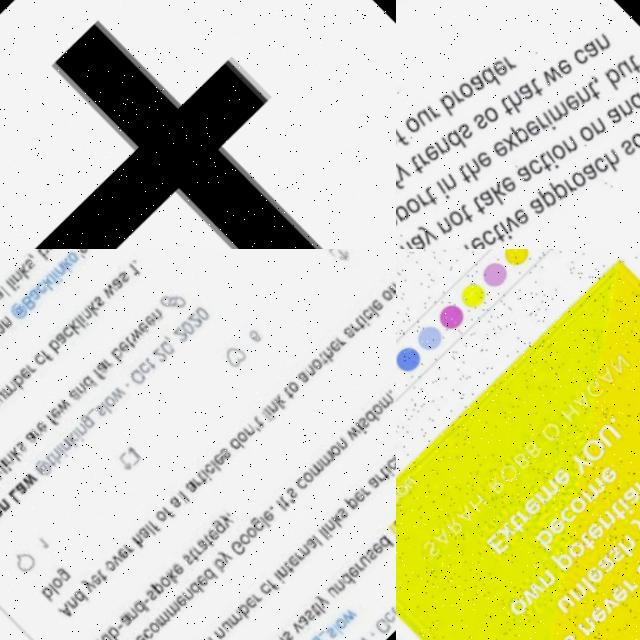0: (189, 308, 206, 326), (153, 344, 169, 360), (174, 324, 190, 340), (392, 595, 396, 613)
1: (122, 265, 137, 281), (27, 537, 41, 552)
2: (166, 329, 184, 348), (145, 350, 163, 368), (181, 316, 199, 333), (385, 601, 396, 619)
6: (240, 332, 258, 350)
A: (46, 602, 64, 621), (126, 526, 143, 544), (288, 373, 305, 391), (334, 330, 351, 347), (15, 431, 32, 448), (283, 617, 300, 633), (293, 539, 309, 556), (106, 614, 122, 631), (158, 497, 174, 514), (59, 389, 75, 406), (47, 332, 63, 349), (22, 288, 38, 305), (357, 479, 373, 495), (174, 482, 190, 498), (5, 482, 21, 498), (105, 278, 120, 294), (185, 541, 200, 556), (89, 363, 103, 378)
B: (40, 339, 59, 358), (29, 586, 48, 604), (4, 373, 22, 392), (202, 560, 220, 578), (16, 295, 34, 313), (103, 349, 120, 367), (225, 606, 242, 623), (31, 249, 49, 263), (94, 627, 112, 640)
C: (193, 465, 209, 481), (28, 282, 44, 298), (376, 463, 391, 479), (285, 481, 300, 497), (131, 363, 146, 379), (371, 616, 386, 631), (355, 312, 370, 327), (54, 326, 69, 341), (127, 628, 143, 640)
D: (328, 576, 346, 595), (177, 583, 195, 602), (61, 590, 80, 608), (74, 376, 92, 395), (367, 539, 384, 557), (355, 414, 372, 432), (121, 602, 138, 620), (220, 441, 237, 459), (191, 570, 208, 587)
E: (232, 599, 249, 616), (161, 596, 178, 613), (250, 512, 267, 529), (320, 343, 337, 360), (274, 557, 291, 573), (183, 576, 199, 593), (196, 530, 212, 547), (77, 573, 93, 590), (106, 548, 122, 565), (10, 367, 26, 384), (343, 494, 359, 510), (160, 564, 176, 580), (203, 456, 219, 472), (26, 420, 42, 436), (110, 342, 126, 358), (364, 303, 379, 319), (137, 316, 152, 332), (360, 546, 375, 561), (41, 407, 56, 422), (131, 323, 146, 338), (336, 571, 351, 585), (384, 453, 396, 468), (121, 634, 137, 640)
F: (253, 580, 269, 597), (36, 413, 52, 430), (32, 349, 49, 365), (85, 369, 101, 386), (137, 521, 153, 537), (152, 506, 167, 521)
G: (217, 541, 239, 562), (44, 567, 63, 586), (238, 519, 256, 538), (71, 414, 89, 433), (200, 521, 218, 539)
H: (315, 352, 332, 369), (41, 449, 58, 466), (120, 535, 136, 552)
I: (351, 319, 366, 335), (346, 427, 361, 442), (262, 576, 276, 591), (374, 469, 388, 484), (191, 471, 205, 486), (47, 446, 61, 461), (70, 314, 84, 329), (45, 270, 59, 285), (310, 529, 324, 543), (3, 277, 16, 291), (256, 412, 269, 425), (65, 431, 77, 444), (265, 504, 277, 517), (387, 388, 396, 401), (0, 459, 4, 473)
K: (12, 264, 30, 282), (80, 302, 98, 320), (320, 516, 337, 534), (265, 398, 283, 415), (56, 258, 73, 276), (0, 446, 17, 464), (61, 321, 78, 338), (36, 277, 53, 294), (155, 571, 171, 588), (58, 433, 74, 450)
L: (0, 489, 15, 506), (36, 583, 50, 598), (93, 403, 107, 417), (68, 318, 82, 332), (42, 274, 56, 288), (303, 605, 315, 619), (384, 460, 396, 474), (134, 525, 146, 539), (167, 496, 179, 510), (253, 413, 265, 427), (319, 627, 331, 640), (301, 539, 313, 552), (307, 533, 319, 546), (362, 310, 374, 323), (0, 281, 12, 294), (250, 521, 262, 533), (169, 493, 181, 505), (201, 463, 212, 476), (0, 285, 6, 299)
M: (297, 464, 318, 484), (368, 398, 388, 418), (214, 613, 234, 632), (152, 603, 171, 622), (309, 454, 328, 473), (143, 612, 161, 630), (0, 380, 11, 398)
N: (50, 439, 66, 456), (66, 383, 82, 400), (381, 286, 396, 303), (170, 590, 185, 605), (114, 608, 129, 623), (233, 427, 248, 442), (66, 425, 81, 440), (74, 308, 89, 323), (49, 264, 64, 279), (322, 584, 337, 598), (265, 569, 280, 583), (288, 548, 303, 562), (314, 524, 328, 539), (326, 442, 340, 457), (145, 310, 159, 325), (6, 271, 21, 285), (55, 598, 69, 612), (259, 405, 273, 419), (297, 368, 311, 382), (200, 629, 215, 640), (0, 452, 8, 467), (0, 315, 8, 330), (0, 497, 4, 514)
O: (120, 369, 142, 390), (360, 621, 382, 640), (134, 622, 151, 639), (146, 576, 163, 593), (144, 511, 161, 528), (373, 293, 390, 310), (246, 585, 262, 602), (226, 535, 242, 552), (92, 559, 108, 576), (303, 361, 319, 378), (25, 353, 41, 370), (234, 528, 250, 544), (291, 474, 307, 490), (39, 576, 55, 592), (227, 434, 243, 449), (279, 383, 294, 399), (320, 448, 335, 463), (363, 407, 378, 422), (61, 252, 76, 267), (322, 622, 337, 636), (95, 398, 110, 412)
P: (334, 499, 351, 516), (138, 583, 154, 598)
R: (180, 546, 194, 561), (329, 339, 343, 354), (343, 565, 356, 579), (240, 595, 253, 608), (283, 554, 296, 567), (96, 358, 109, 371), (18, 363, 31, 376), (350, 491, 363, 503), (365, 477, 378, 489), (112, 545, 125, 557), (182, 479, 195, 491), (23, 428, 36, 440), (343, 327, 355, 339)
S: (6, 439, 22, 456), (18, 258, 34, 274), (349, 420, 364, 436), (170, 555, 185, 571), (291, 612, 306, 628), (111, 272, 126, 288), (353, 552, 368, 567), (325, 511, 340, 526), (133, 590, 148, 605), (86, 406, 101, 421), (86, 296, 101, 311), (211, 449, 225, 464), (276, 491, 290, 505), (312, 630, 326, 640), (70, 249, 86, 257), (269, 633, 283, 640)
T: (377, 611, 393, 627), (176, 552, 191, 568), (274, 390, 289, 406), (346, 322, 362, 337), (137, 359, 152, 375), (84, 570, 99, 585), (35, 456, 50, 471), (297, 608, 311, 623), (186, 473, 200, 488), (310, 356, 324, 371), (117, 338, 131, 353), (368, 472, 382, 486), (192, 537, 206, 551), (245, 419, 258, 433), (269, 500, 282, 513), (271, 565, 283, 579), (390, 383, 396, 397), (391, 279, 396, 294)
U: (347, 559, 362, 575), (315, 590, 329, 605), (208, 622, 223, 636), (87, 634, 101, 640), (38, 249, 53, 253)
V: (100, 554, 115, 570), (278, 624, 293, 639)
W: (335, 428, 356, 448), (95, 283, 115, 303), (47, 398, 68, 417), (328, 612, 347, 630), (11, 473, 30, 491), (122, 329, 140, 347), (102, 388, 121, 405)
Y: (302, 595, 320, 614), (69, 578, 87, 596), (206, 550, 223, 568), (207, 515, 224, 533)
